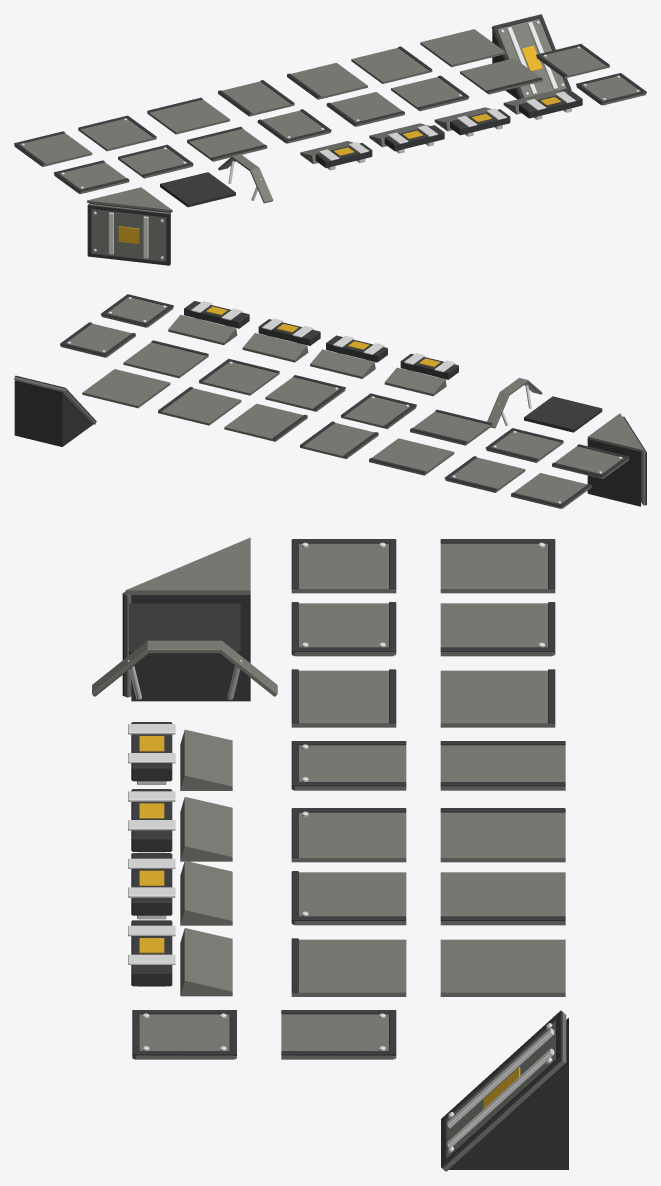
Rendered from R4H_HullKit.fbx.
3 renders of one model, top to bottom at view 1: azimuth 30°, elevation 25°; view 2: azimuth 150°, elevation 25°; view 3: azimuth 270°, elevation 25°, orthographic. The views are drawn at different scales.
Parts seen in each view (by area): view 1: cheek, ramp, plate_15, plate_11, plate_14, plate_07, plate_13, plate_10, plate_09, plate_03, plate_06, plate_12 (+12 smaller); view 2: ramp, cheek, nose_3, nose_2, nose_1, nose_0, plate_15, plate_07, plate_14, plate_11, plate_13, plate_06 (+12 smaller); view 3: ramp, cheek, plate_15, plate_13, plate_14, plate_07, plate_11, plate_05, plate_09, nose_3, plate_12, plate_06 (+12 smaller).
Part boxes in pixels (<box>): cheek: <box>87,187,172,265</box>; ramp: <box>491,14,571,99</box>; plate_15: <box>420,29,505,67</box>; plate_11: <box>147,97,229,134</box>; plate_14: <box>351,46,432,83</box>; plate_07: <box>460,58,542,94</box>; plate_13: <box>287,62,367,99</box>; plate_10: <box>78,115,156,151</box>; plate_09: <box>14,131,92,166</box>; plate_03: <box>187,127,267,161</box>; plate_06: <box>391,75,469,111</box>; plate_12: <box>218,80,294,116</box>; ramp: <box>14,375,96,446</box>; cheek: <box>587,413,646,506</box>; nose_3: <box>168,301,249,345</box>; nose_2: <box>242,318,320,362</box>; nose_1: <box>310,335,387,378</box>; nose_0: <box>384,353,458,396</box>; plate_15: <box>82,369,170,408</box>; plate_07: <box>123,340,208,378</box>; plate_14: <box>158,387,241,425</box>; plate_11: <box>369,438,454,475</box>; plate_13: <box>224,403,307,441</box>; plate_06: <box>199,358,279,395</box>; ramp: <box>441,1010,568,1171</box>; cheek: <box>122,537,250,701</box>; plate_15: <box>440,939,565,996</box>; plate_13: <box>440,808,565,862</box>; plate_14: <box>440,872,565,925</box>; plate_07: <box>291,938,406,996</box>; plate_11: <box>440,669,555,727</box>; plate_05: <box>291,808,406,862</box>; plate_09: <box>440,539,555,593</box>; nose_3: <box>128,920,232,996</box>; plate_12: <box>440,741,565,790</box>; plate_06: <box>291,871,406,925</box>.
Size of the model in its own units: 5.42 by 0.7099 by 2.1.
